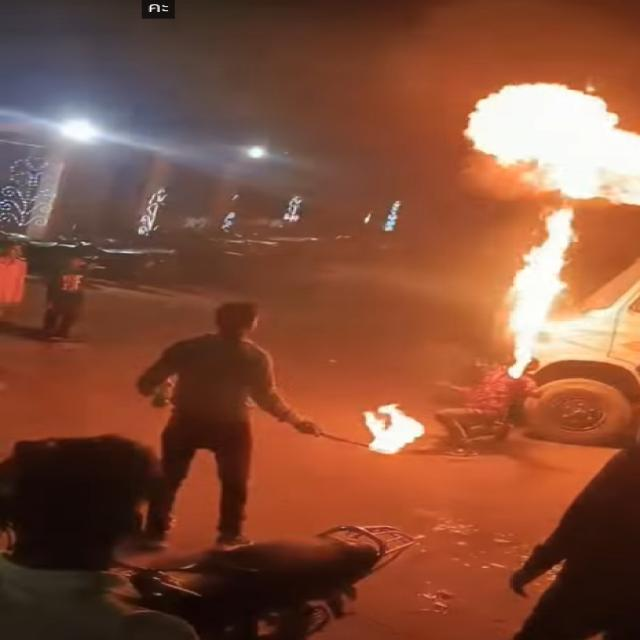fire: (468, 137, 640, 204), (463, 82, 620, 137), (511, 266, 569, 359), (523, 207, 579, 265), (379, 403, 425, 454), (362, 411, 392, 455)
